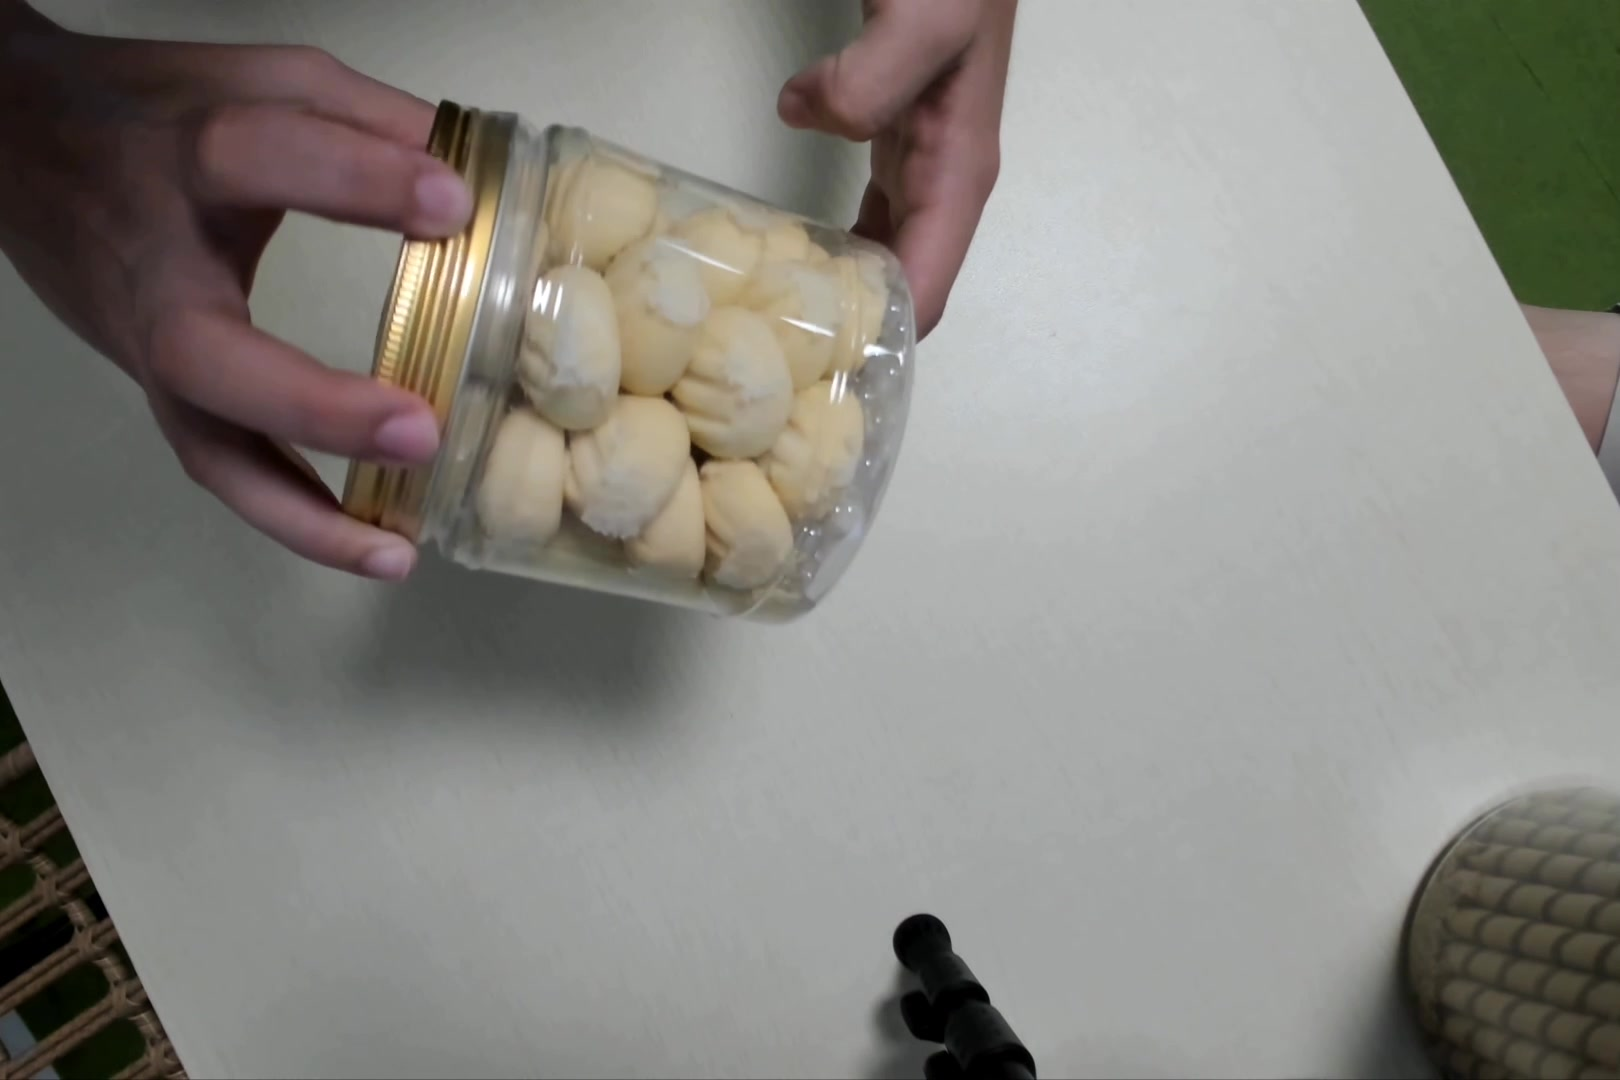BiscuitsCrackersCookies_200-299g_Halal_NonHealthy: (335, 96, 918, 632)
